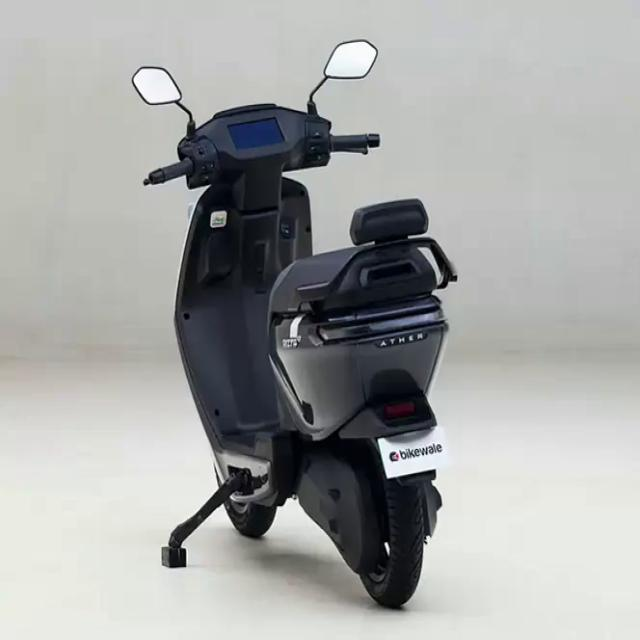objects: (118, 14, 461, 624)
